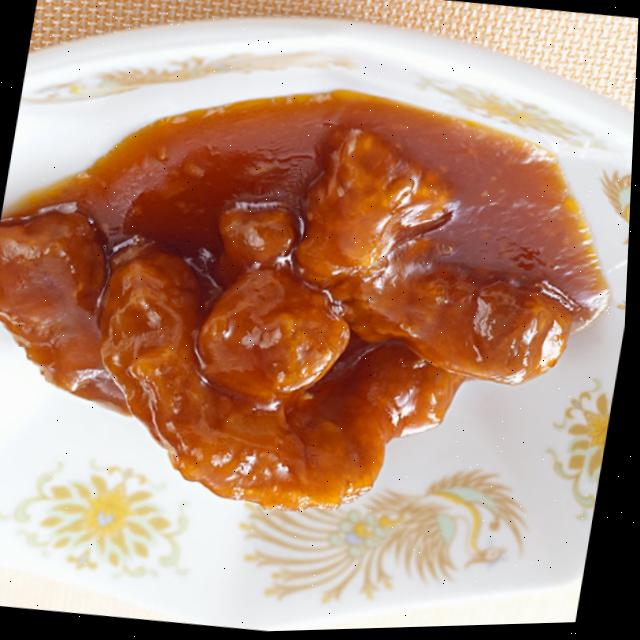猪肉菜式: (0, 37, 638, 555)
